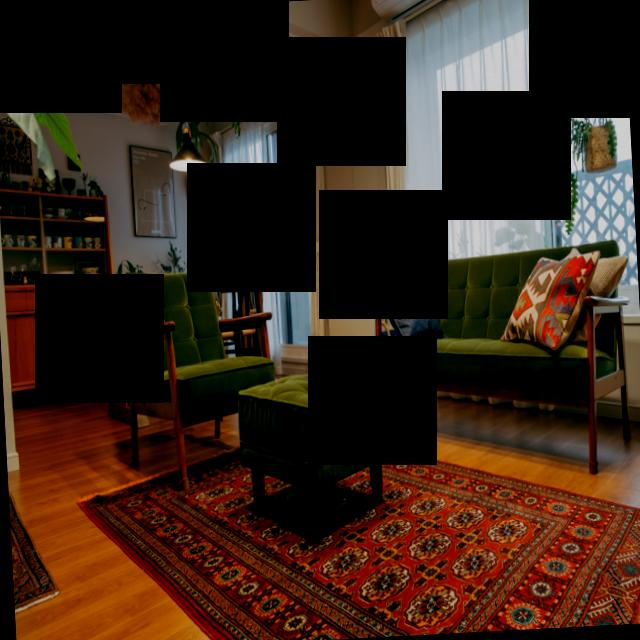vintage chair: (118, 262, 280, 484)
vintage shelf: (0, 172, 116, 389)
vintage sofa: (370, 246, 632, 415)
